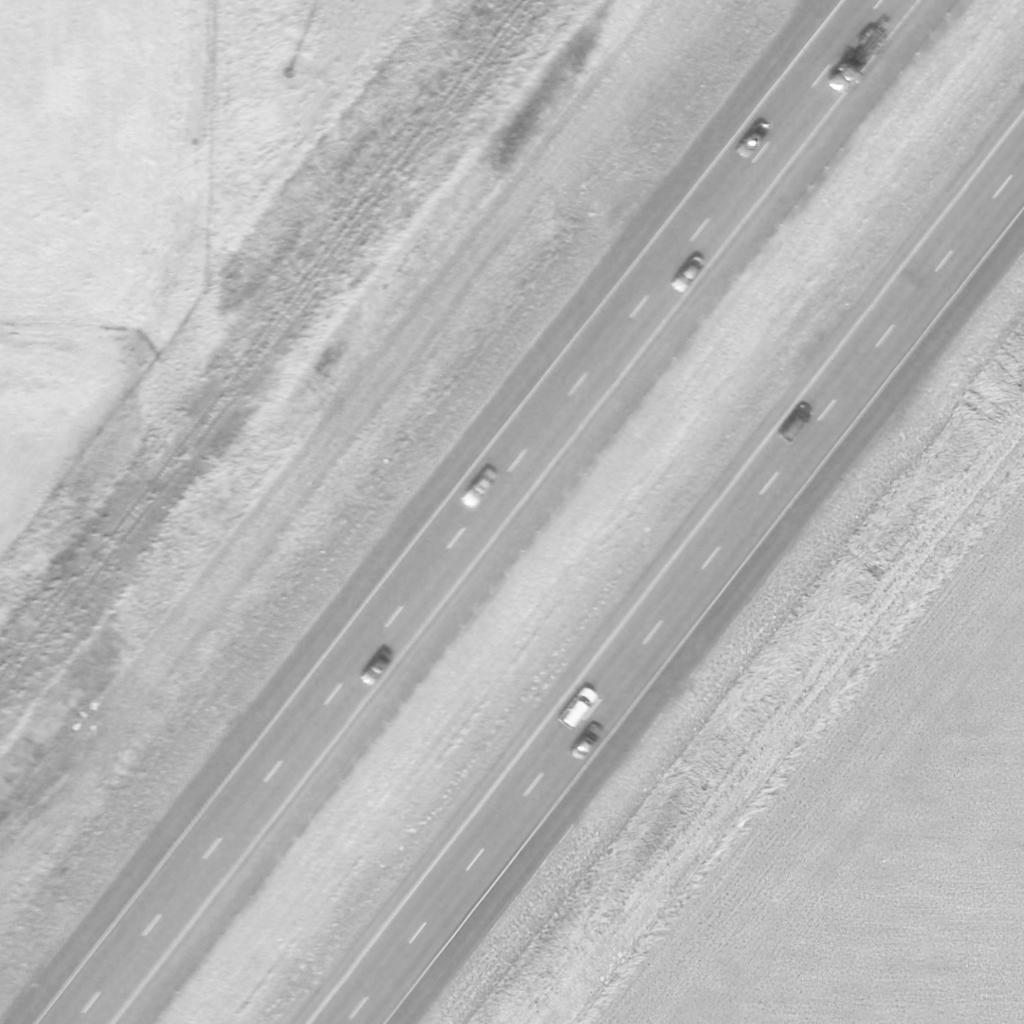vehicle: (821, 10, 901, 96), (556, 686, 598, 732), (460, 465, 500, 511), (734, 117, 772, 161), (358, 650, 396, 690), (569, 721, 605, 761), (670, 255, 706, 295), (780, 401, 814, 443)
